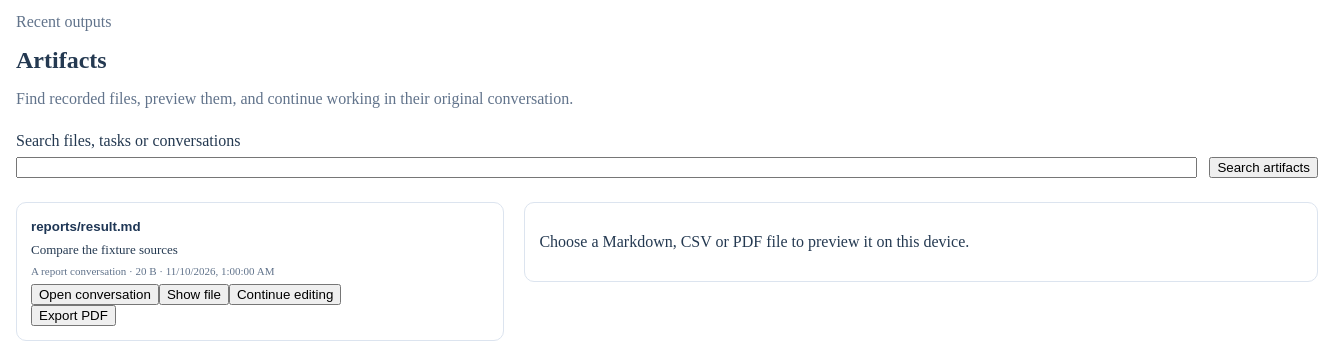
artifact browsing › discards an old preview after a newer search
Click the button "reports/result.md": (86, 226) left=31, top=219, right=489, bottom=234
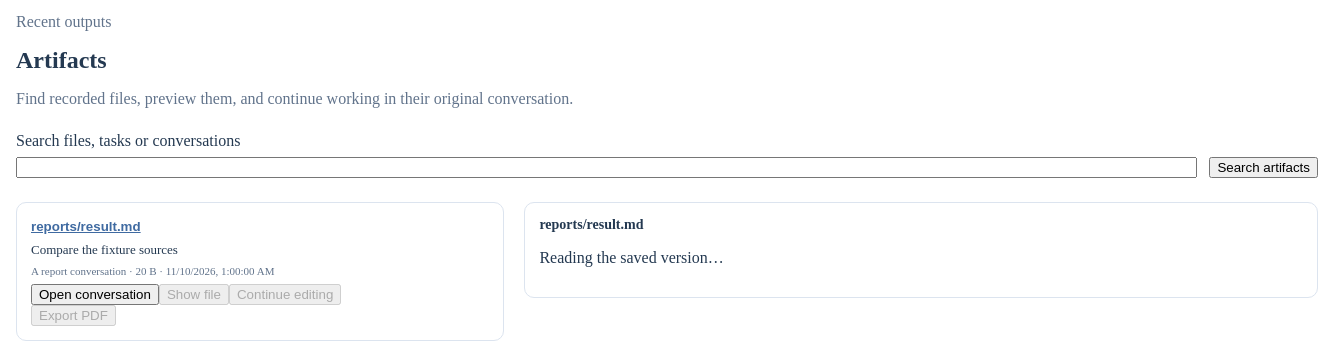
In the search field: (607, 168) left=16, top=157, right=1197, bottom=178, type "new query"
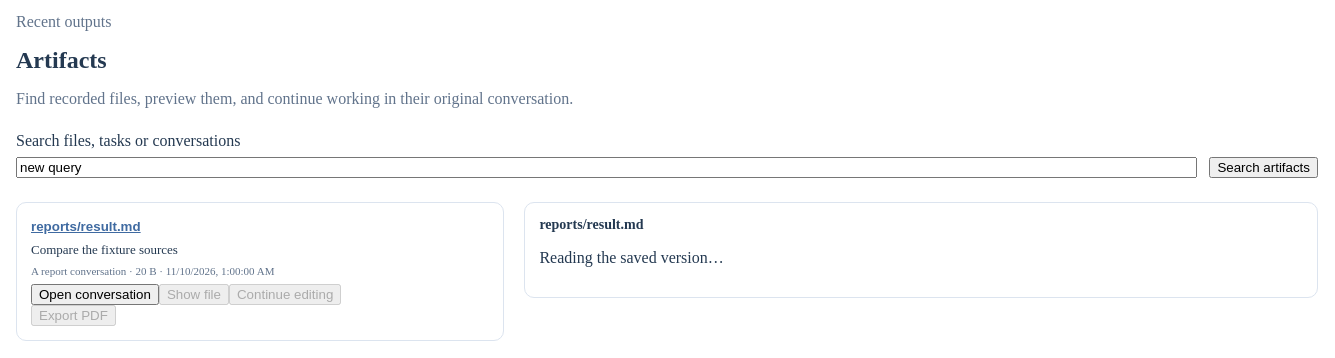
Click the button "Search artifacts": (1264, 168) left=1209, top=157, right=1318, bottom=178
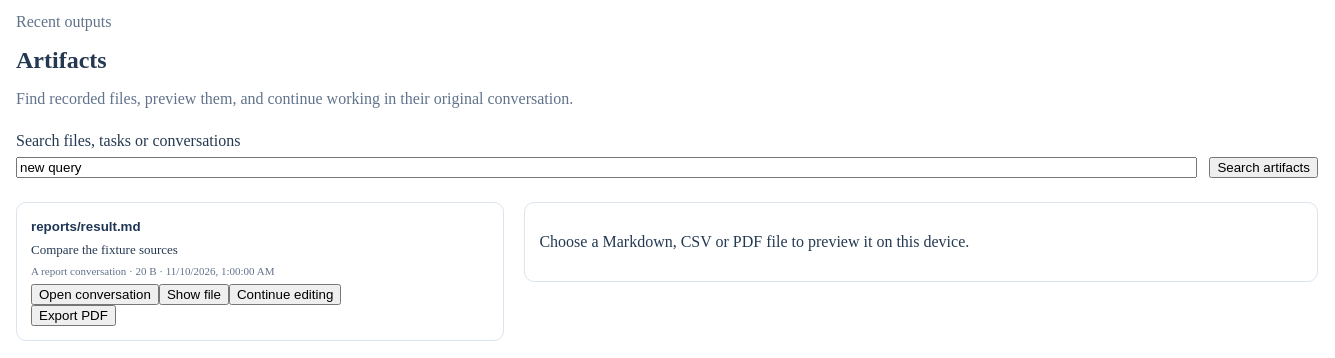
Expected: the button "Continue editing" is enabled, left=229, top=284, right=341, bottom=305
